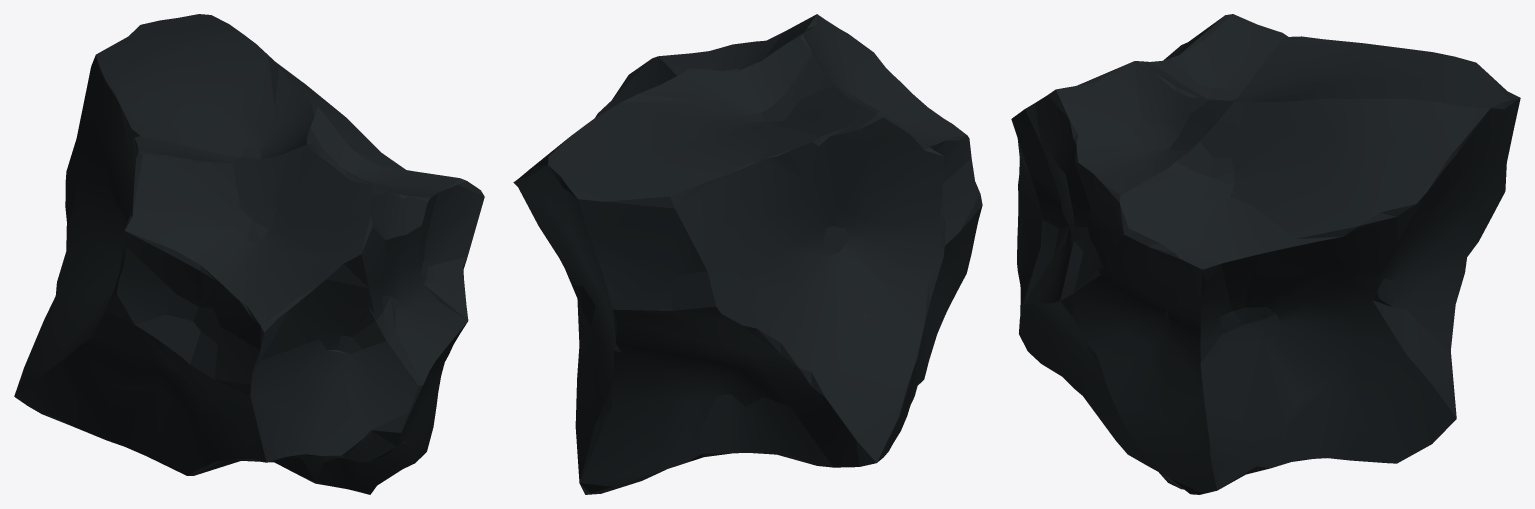
File: Asteroid_l_01.FBX
3 views of the same model, side by side, from view 1: azimuth 30°, elevation 25°; view 2: azimuth 150°, elevation 25°; view 3: azimuth 270°, elevation 25° (orthographic). The views are drawn at different scales.
Parts seen in each view (by area): view 1: Asteroid_l_01; view 2: Asteroid_l_01; view 3: Asteroid_l_01.
Part boxes in pixels (x1=…): Asteroid_l_01: x1=14, y1=14, x2=484, y2=494; Asteroid_l_01: x1=513, y1=14, x2=982, y2=494; Asteroid_l_01: x1=1011, y1=14, x2=1520, y2=494.
Bounding box in the file's own units: 1032 × 1034 × 1237.
